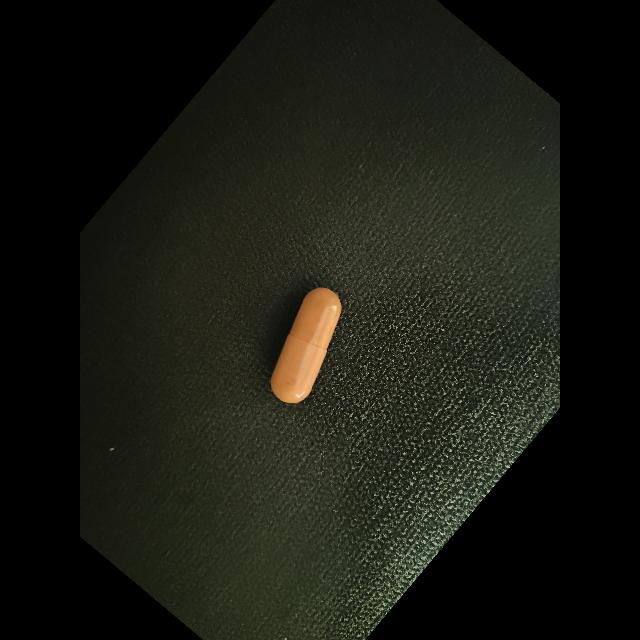Intact Capsule: (270, 287, 342, 403)
